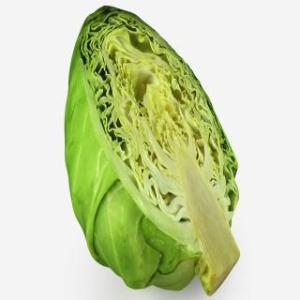cabbage: (64, 6, 244, 300)
